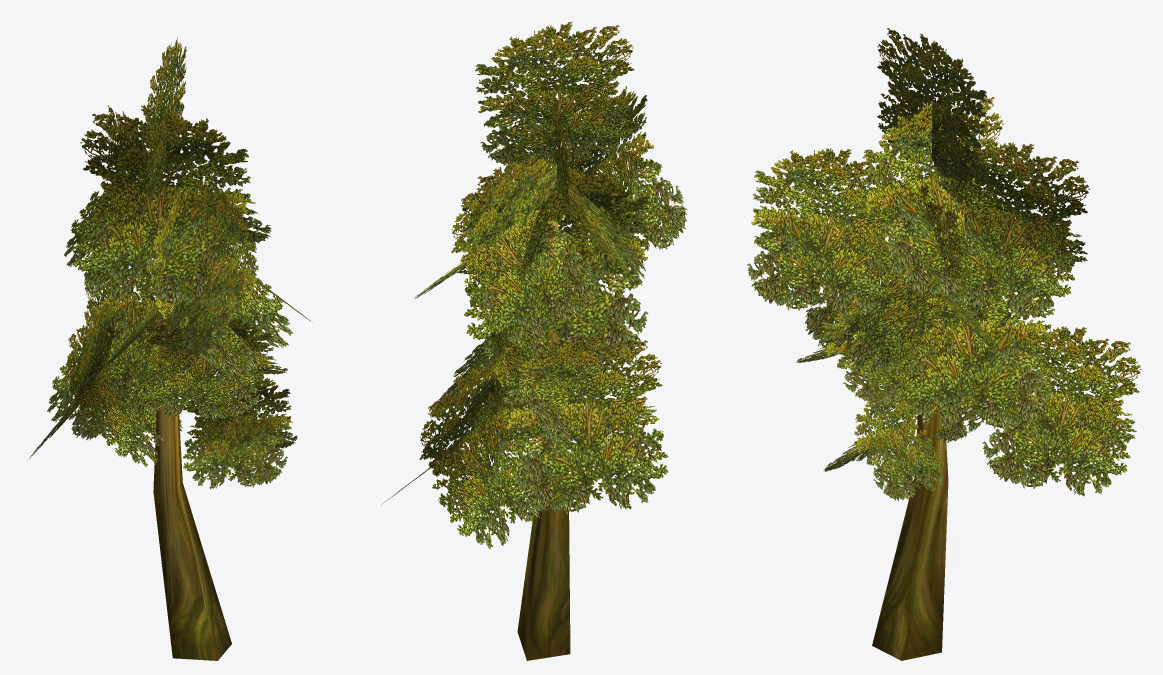
File: elwynntreemid01.glb
3 renders of one model, left to right at view 1: azimuth 30°, elevation 25°; view 2: azimuth 150°, elevation 25°; view 3: azimuth 270°, elevation 25°, orthographic. The views are drawn at different scales.
Bounding box in the file's own units: 5.4 × 12.23 × 7.58.
Materials: 2 (2 with a texture image).
